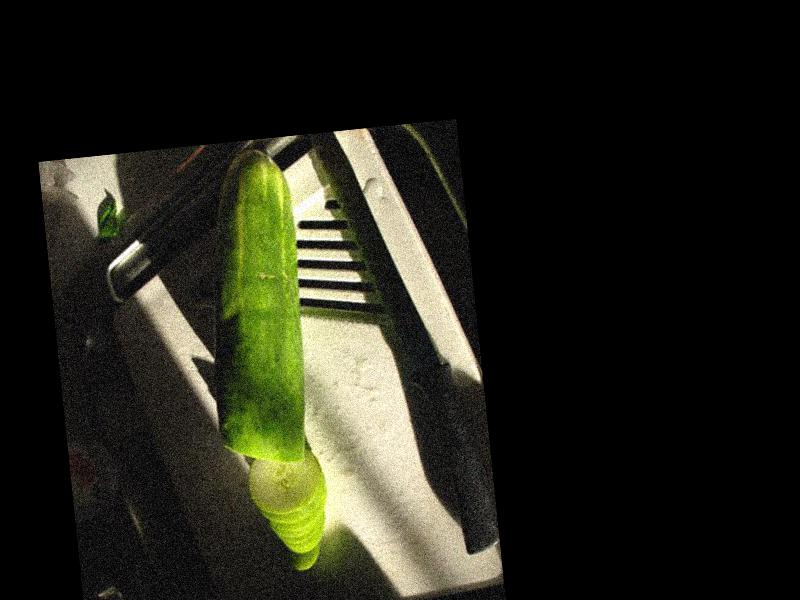Cucumber: (191, 146, 319, 471)
